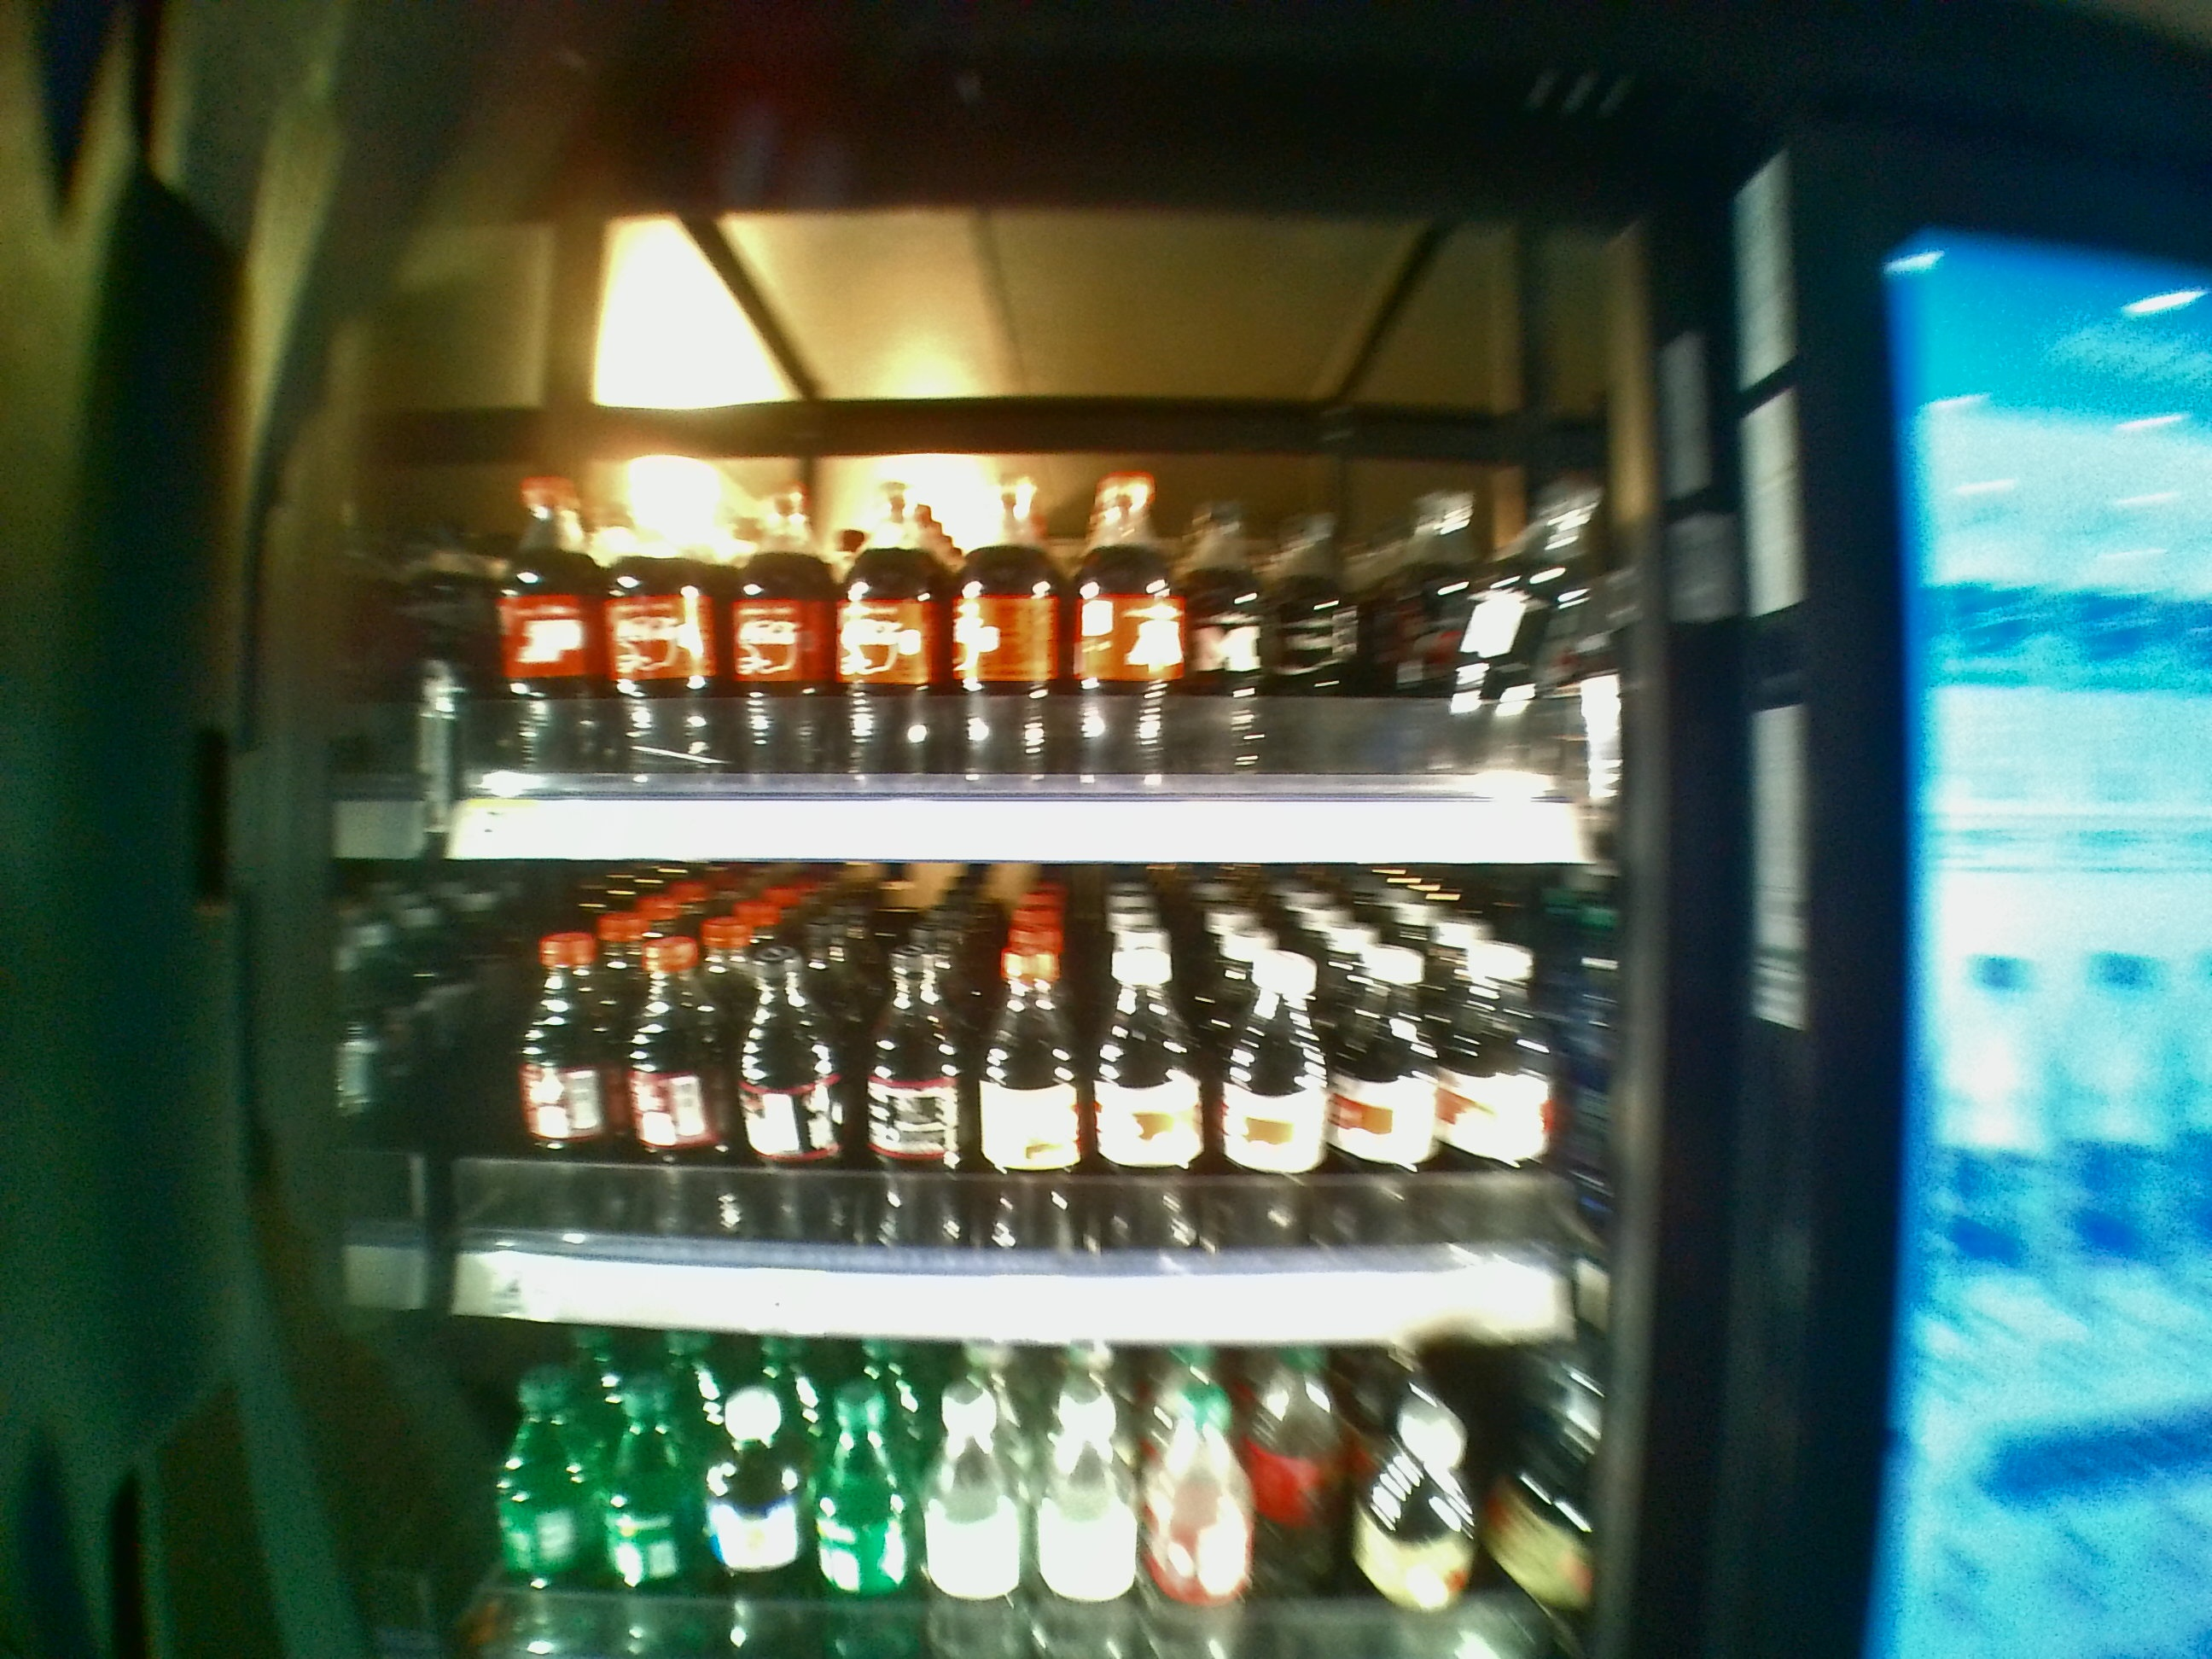shelf: (451, 331, 1587, 863), (455, 873, 1594, 1344)
